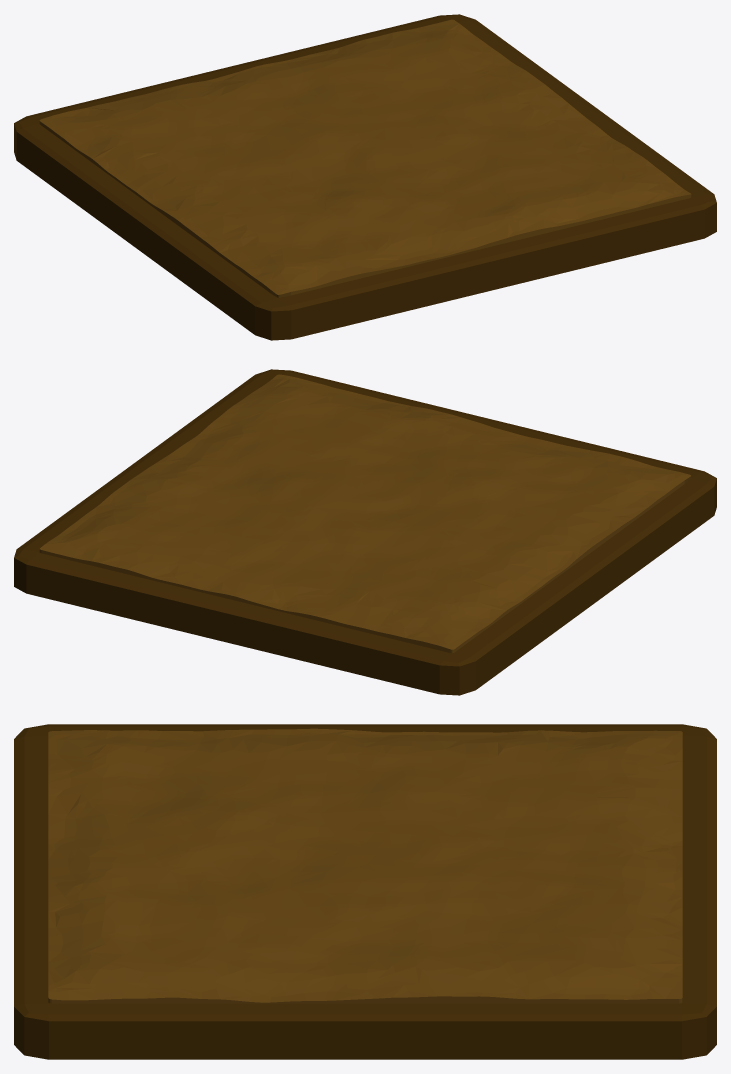
Rendered from ground.fbx.
3 renders of one model, top to bottom at view 1: azimuth 30°, elevation 25°; view 2: azimuth 150°, elevation 25°; view 3: azimuth 270°, elevation 25°, orthographic. The views are drawn at different scales.
Visible parts, largest first — view 1: Cube.002; view 2: Cube.002; view 3: Cube.002.
Boxes of the visible parts, x1=… form: Cube.002: x1=14, y1=14, x2=716, y2=340; Cube.002: x1=14, y1=369, x2=716, y2=695; Cube.002: x1=14, y1=724, x2=716, y2=1059.
Size of the model in its own units: 1000 by 96.2 by 1000.
